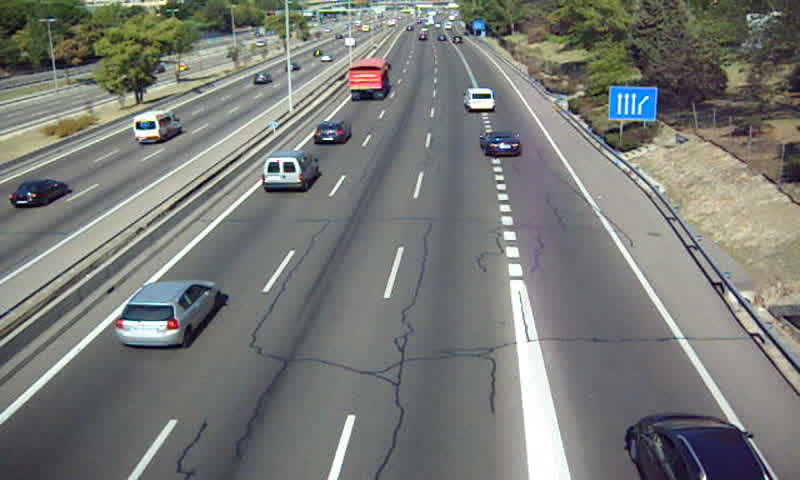car: (629, 414, 770, 480), (115, 282, 219, 348), (480, 129, 521, 156), (314, 120, 351, 146)
truck: (348, 60, 391, 101)
van: (262, 153, 318, 193), (462, 87, 496, 112)
